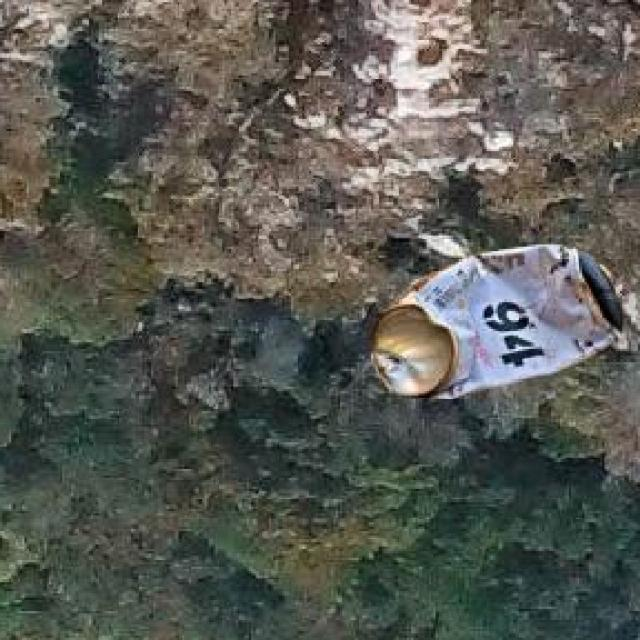logam: (374, 248, 626, 403)
